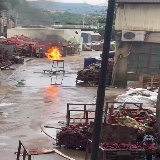fire: (45, 46, 63, 60)
